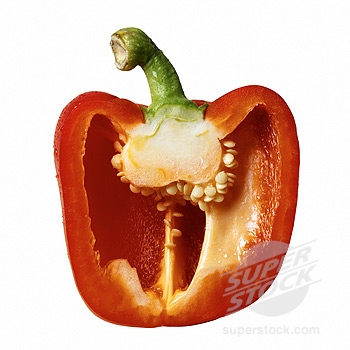capsicum: (52, 26, 301, 329)
